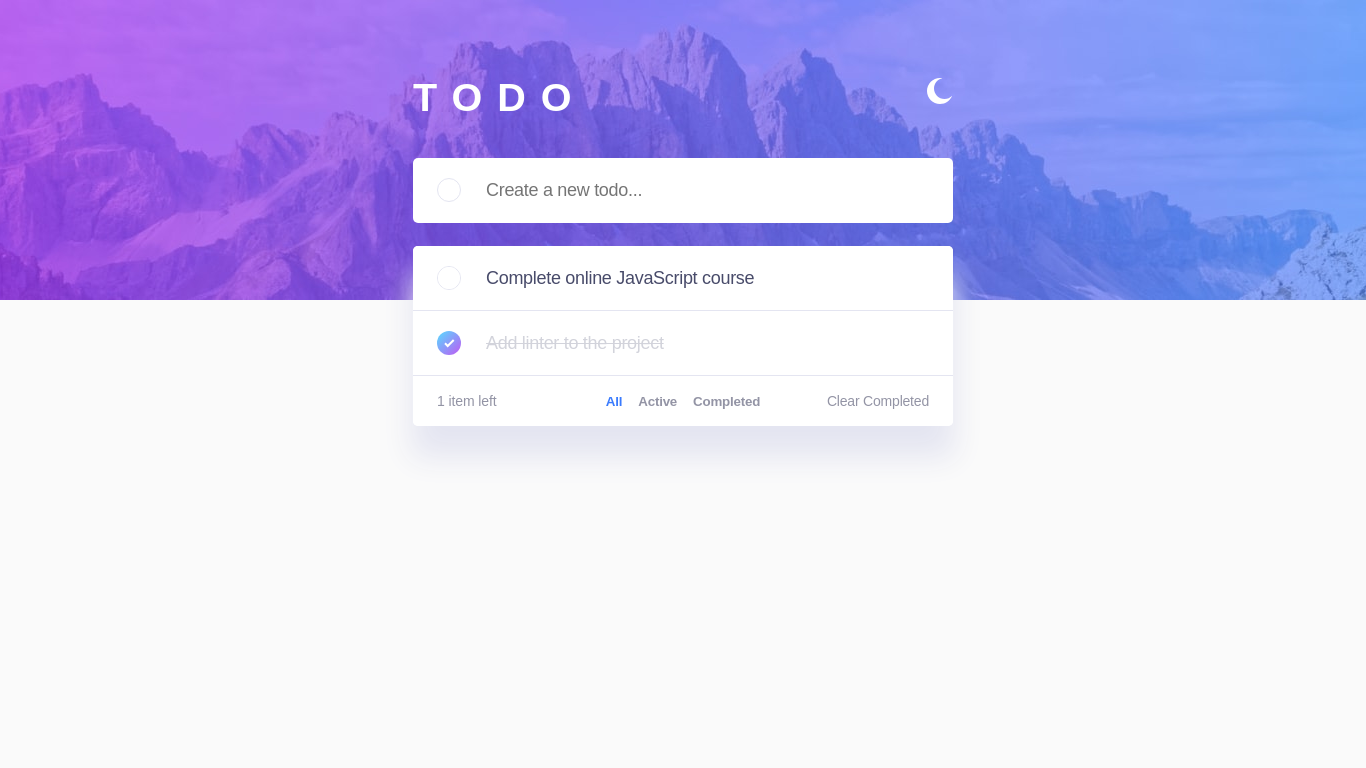
Test: should add a new task
Type "Add a test for AddTask" into the field with placeholder "Create a new todo...". click: (683, 190)
box: 413,158 -> 953,223
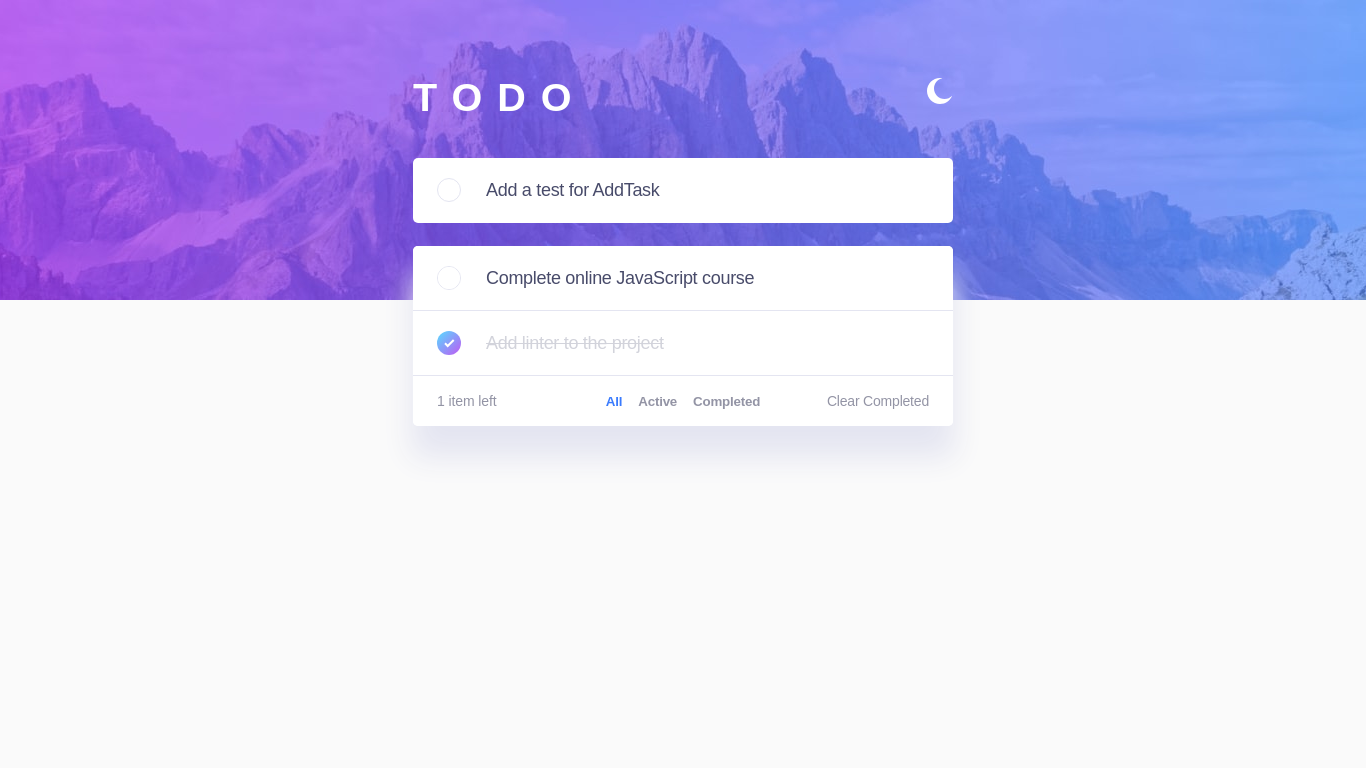
Submit the form from the field with placeholder "Create a new todo...", box 413,158 -> 953,223
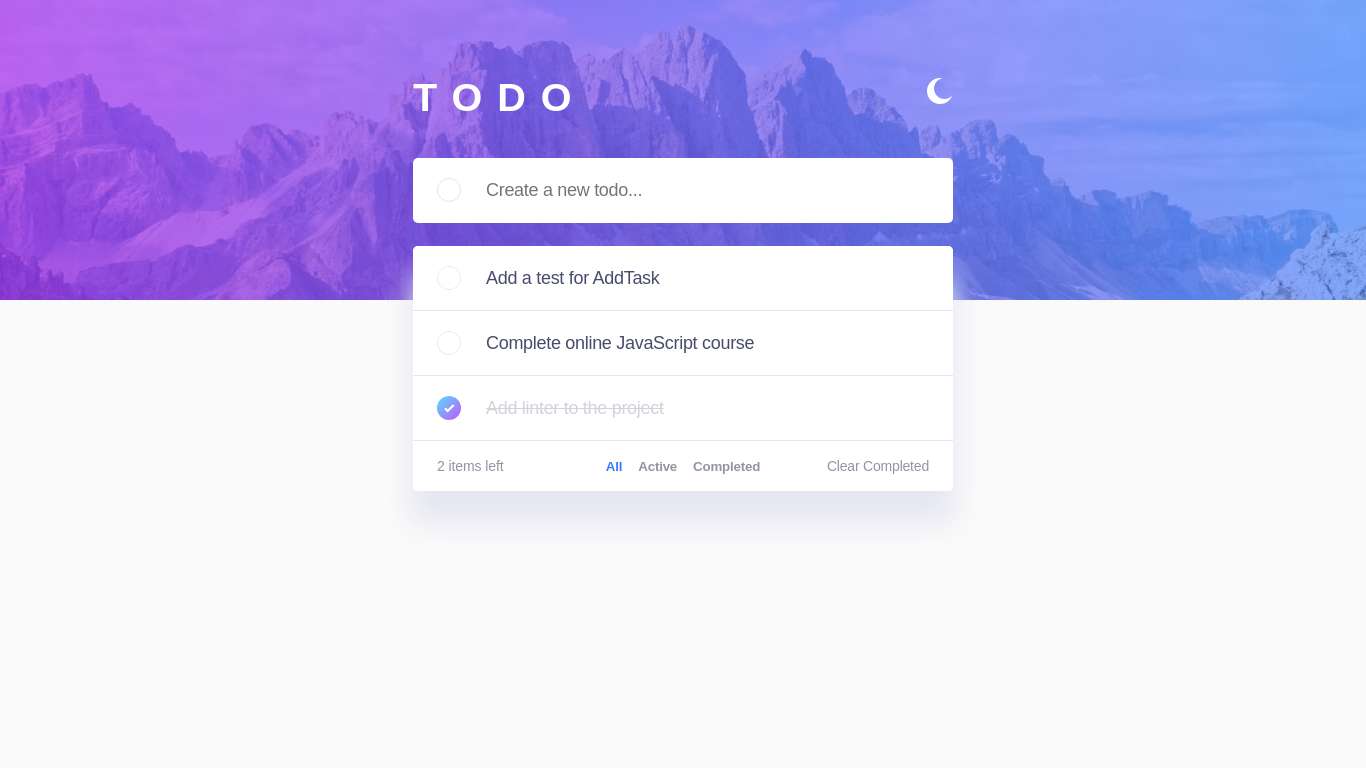
Now the checkbox labelled "Add a test for AddTask" is shown, box 486,268 -> 660,288
